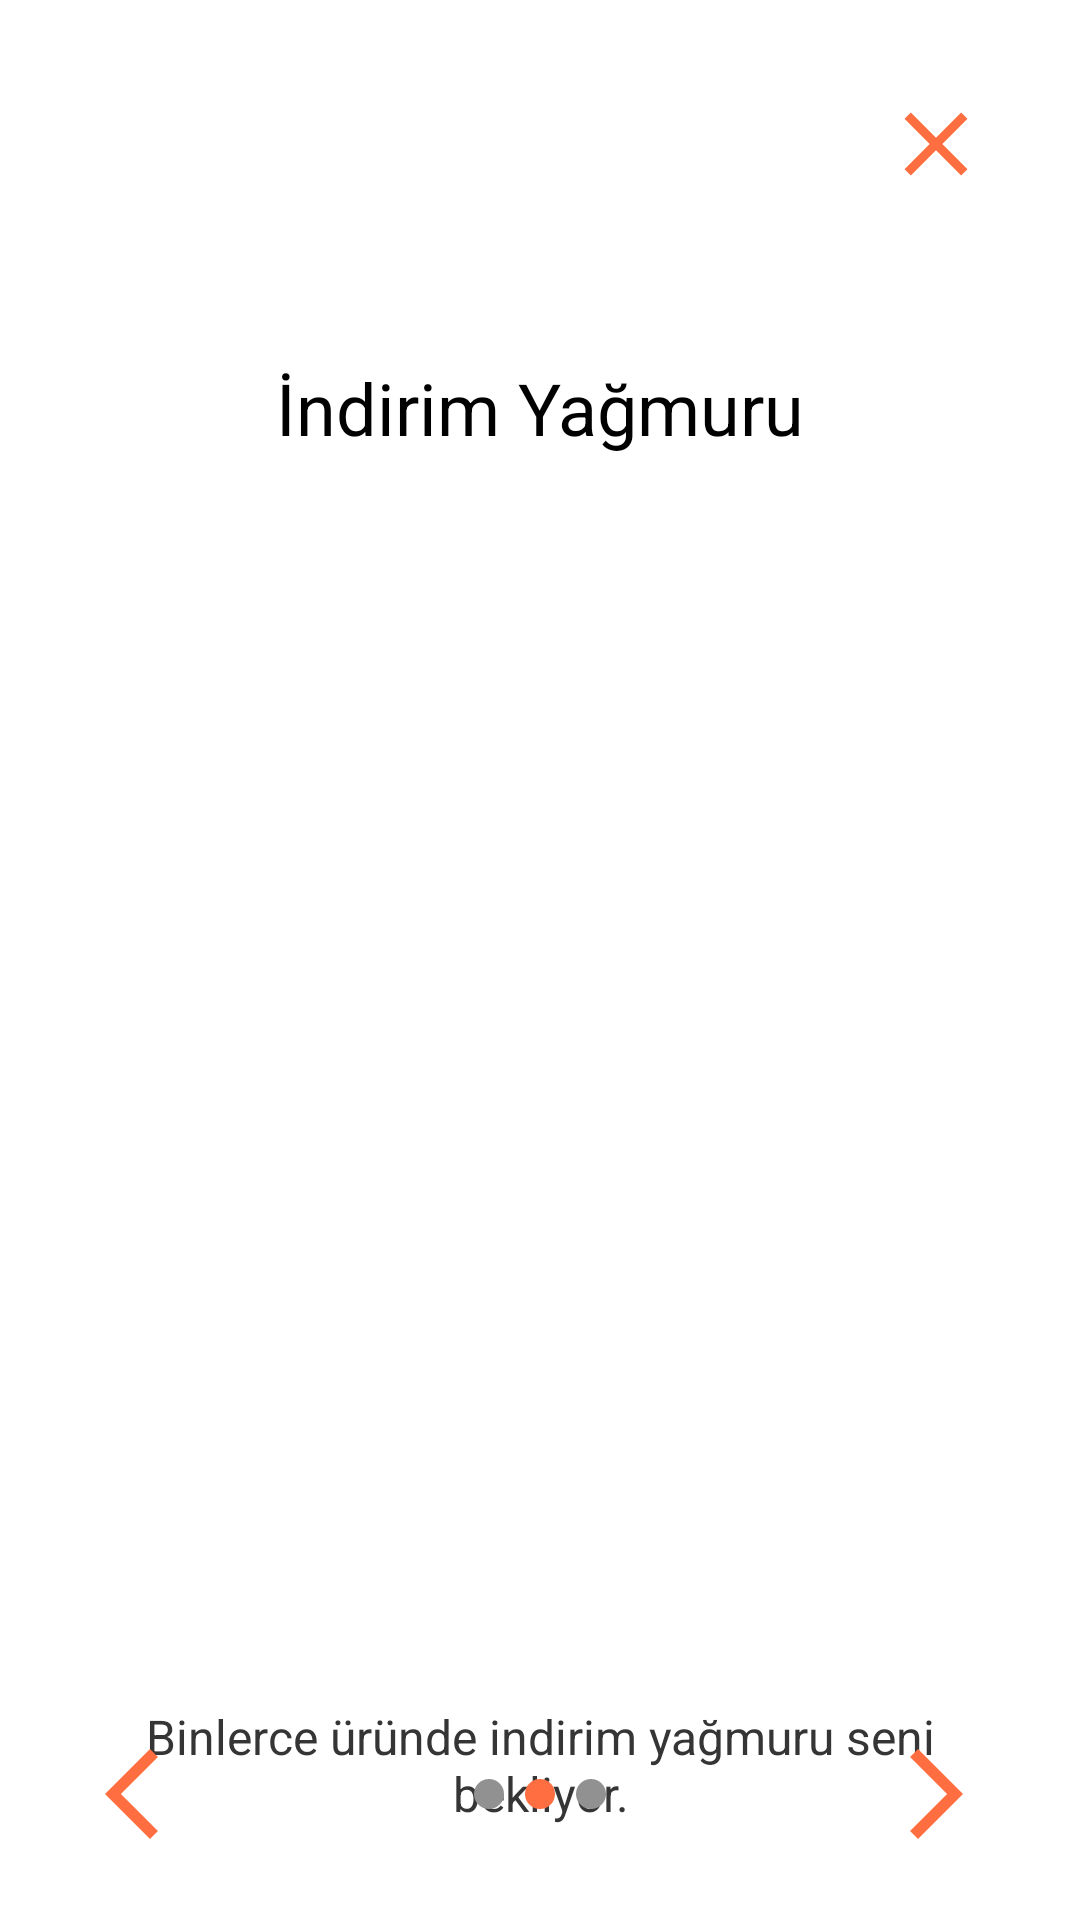

Where icons sit on this 1080*1920 app screen, as (x1, y1, x2, y2):
arrow back: (105, 1740, 184, 1839)
arrow forward: (882, 1740, 963, 1839)
close: (904, 112, 968, 176)
